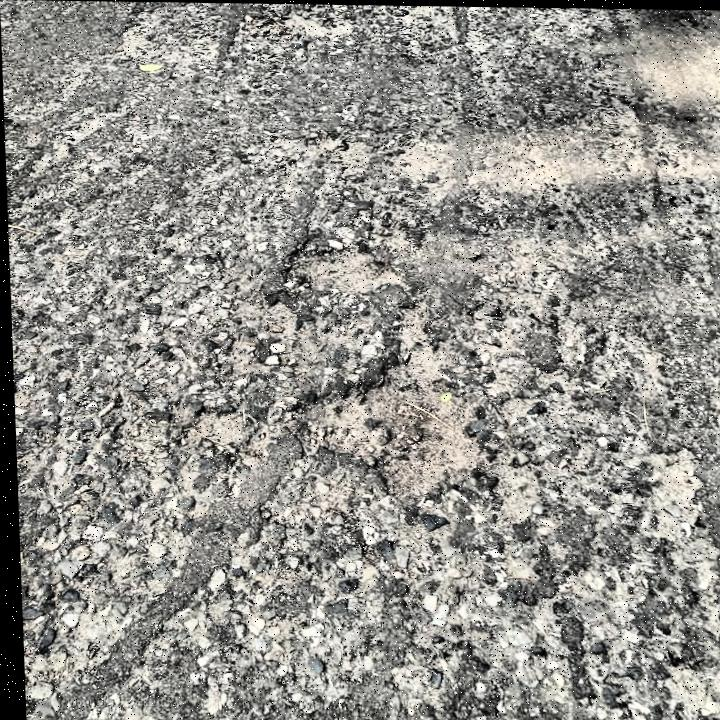pothole: (280, 337, 480, 498), (278, 239, 401, 301), (174, 403, 247, 448)
